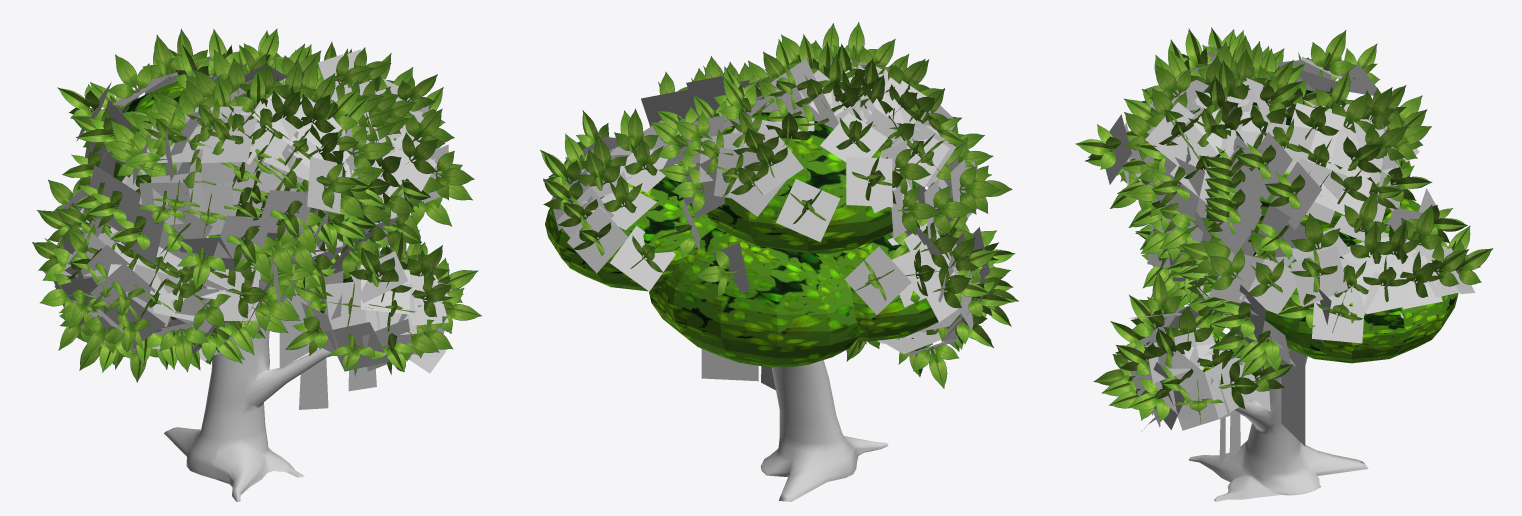
The model's file is tree_01(1).fbx.
The picture shows the model from 3 angles, left to right: view 1: azimuth 30°, elevation 25°; view 2: azimuth 150°, elevation 25°; view 3: azimuth 270°, elevation 25°; orthographic projection. The views are drawn at different scales.
Parts seen in each view (by area): view 1: polySurface9, polySurface5, polySurface3, mass, polySurface1, polySurface2; view 2: polySurface9, mass, polySurface5, polySurface1; view 3: polySurface9, polySurface5, mass, polySurface1.
Part boxes in pixels (x1,y1,x2,y2): polySurface9: [32, 28, 481, 382]; polySurface5: [164, 328, 331, 501]; polySurface3: [299, 358, 328, 409]; mass: [111, 81, 396, 333]; polySurface1: [279, 288, 309, 367]; polySurface2: [348, 367, 376, 391]; polySurface9: [540, 22, 1018, 388]; mass: [545, 106, 938, 367]; polySurface5: [761, 360, 888, 501]; polySurface1: [701, 349, 758, 381]; polySurface9: [1075, 27, 1493, 430]; polySurface5: [1189, 313, 1403, 501]; mass: [1176, 90, 1458, 372]; polySurface1: [1281, 349, 1305, 446].
Bounding box in the file's own units: 4.41 × 3.87 × 3.6.
